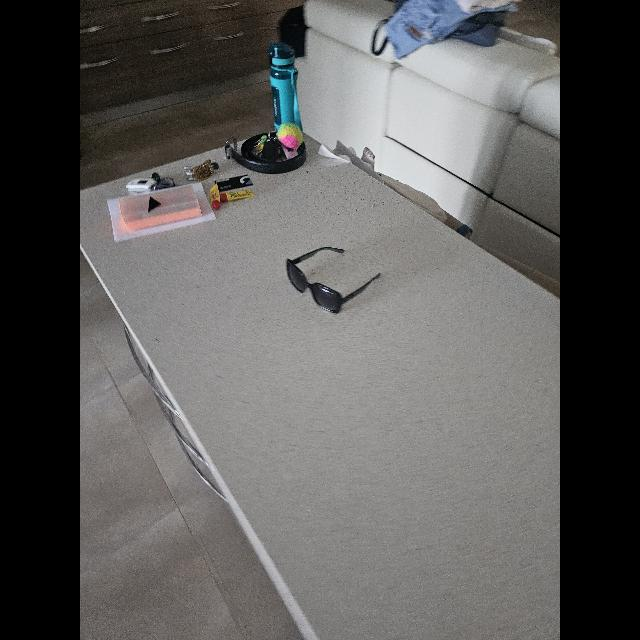Sunglasses: (286, 247, 380, 313)
